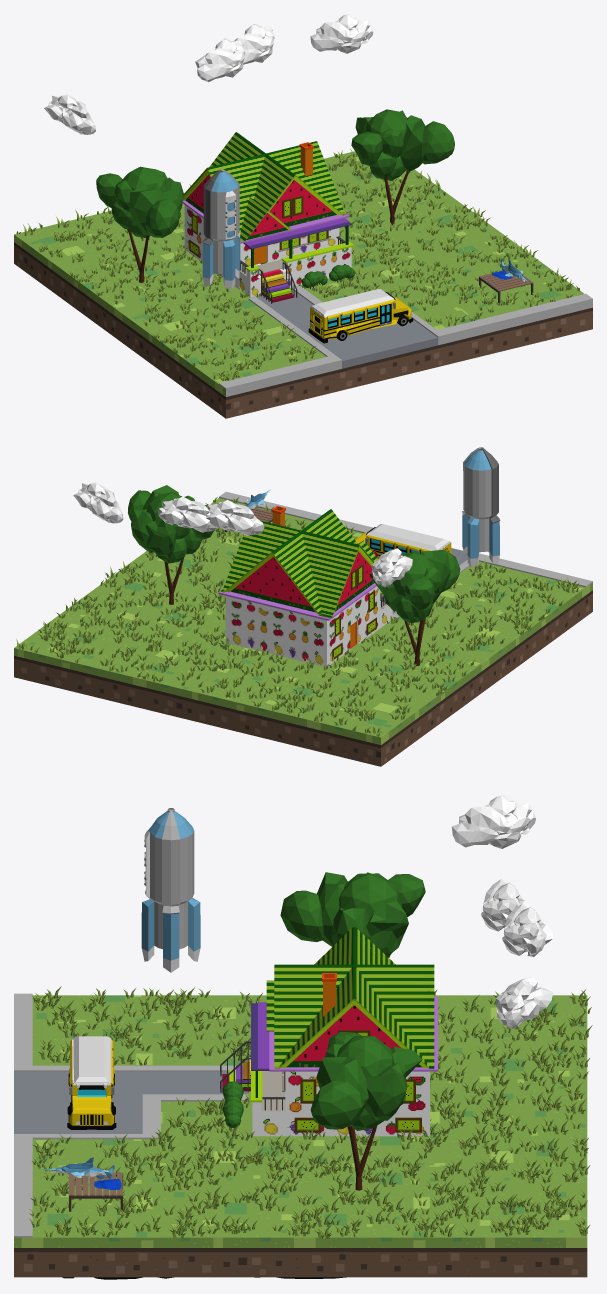
3 renders of one model, top to bottom at view 1: azimuth 30°, elevation 25°; view 2: azimuth 150°, elevation 25°; view 3: azimuth 270°, elevation 25°, orthographic. The views are drawn at different scales.
Parts seen in each view (by area): view 1: Cube.006, Circle.012_Grass_0.192, Cube.1063, Cube.007, tree, tree.001, OBJRANDOM_ROCKETSHIP, VEHICLES_SCHOOL_BUS, Cube.009; view 2: Cube.006, Cube.1063, Circle.012_Grass_0.192, Cube.007, OBJRANDOM_ROCKETSHIP, tree.001, tree, VEHICLES_SCHOOL_BUS; view 3: Cube.006, Circle.012_Grass_0.192, Cube.1063, tree, Cube.007, tree.001, OBJRANDOM_ROCKETSHIP, VEHICLES_SCHOOL_BUS, Cube.009, ANIMAL_PEZ_ESPADA.
Part boxes in pixels (<box>): Cube.006: <box>14,151,592,418</box>; Circle.012_Grass_0.192: <box>16,148,579,381</box>; Cube.1063: <box>182,132,353,303</box>; Cube.007: <box>44,14,373,134</box>; tree: <box>351,109,454,225</box>; tree.001: <box>96,166,183,282</box>; OBJRANDOM_ROCKETSHIP: <box>202,169,240,289</box>; VEHICLES_SCHOOL_BUS: <box>308,289,413,343</box>; Cube.009: <box>479,273,533,302</box>; Cube.006: <box>14,491,592,766</box>; Cube.1063: <box>218,506,392,666</box>; Circle.012_Grass_0.192: <box>16,497,579,736</box>; Cube.007: <box>73,482,412,587</box>; OBJRANDOM_ROCKETSHIP: <box>462,447,500,567</box>; tree.001: <box>369,549,460,665</box>; tree: <box>128,485,213,604</box>; VEHICLES_SCHOOL_BUS: <box>355,524,451,558</box>; Cube.006: <box>14,993,587,1277</box>; Circle.012_Grass_0.192: <box>29,986,592,1238</box>; Cube.1063: <box>220,926,437,1136</box>; tree: <box>310,1031,422,1190</box>; Cube.007: <box>451,795,552,1028</box>; tree.001: <box>280,872,425,957</box>; OBJRANDOM_ROCKETSHIP: <box>141,808,200,972</box>; VEHICLES_SCHOOL_BUS: <box>67,1036,116,1129</box>; Cube.009: <box>69,1172,122,1211</box>; ANIMAL_PEZ_ESPADA: <box>41,1157,121,1189</box>.
Size of the model in its own units: 4071 by 2149 by 4040.
39 materials, 5 textured.
